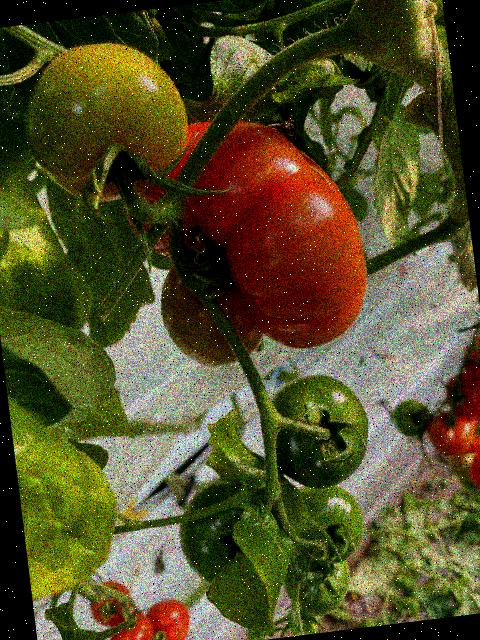l_fully_ripened: (116, 103, 374, 368)
l_green: (259, 368, 376, 494), (172, 476, 252, 588), (285, 478, 368, 567), (279, 544, 354, 620)
l_half_ripened: (17, 32, 197, 209), (155, 250, 267, 373)
